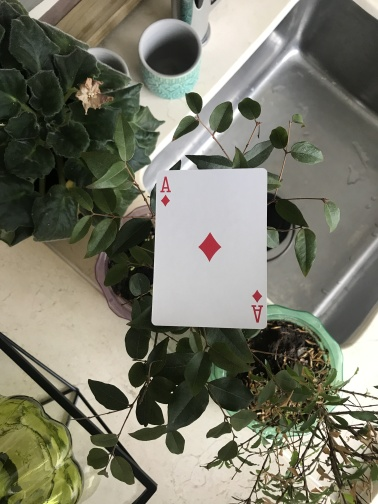ace: (150, 166, 268, 330)
